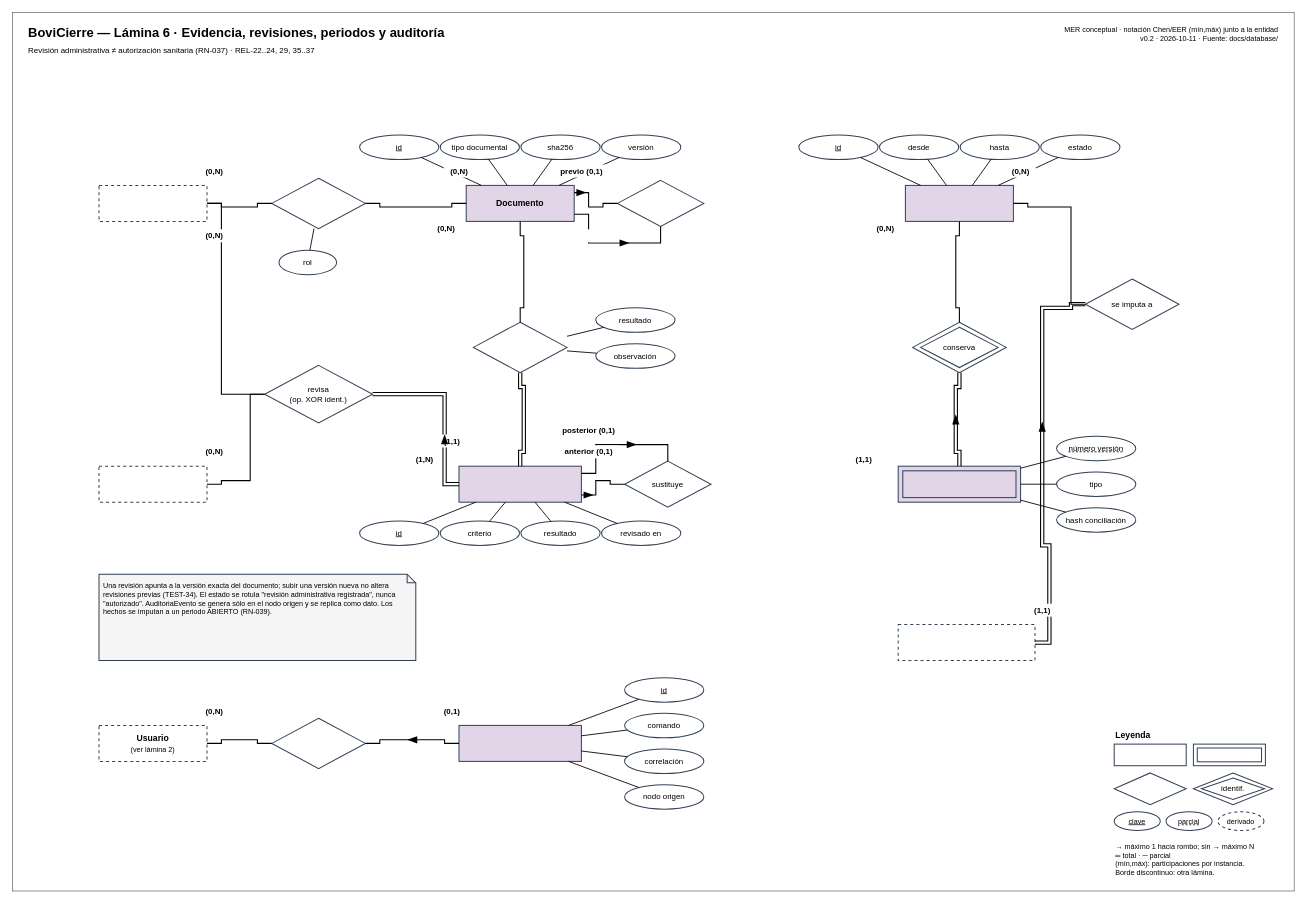
The diagram is 1307 pixels wide and 904 high, and some of its shapes have lost their labels. The shapes that lost their labels are listed below. From the top down, each one's centre as x and y in pixels, then its label:
(x=152, y=203): Operacion (ver lámina 3)
(x=318, y=203): incorpora
(x=660, y=203): reemplaza
(x=959, y=203): PeriodoCierre
(x=581, y=235): nueva versión (0,1)
(x=520, y=347): examina
(x=152, y=483): Identificacion (ver lámina 2)
(x=520, y=483): RevisionAdministrativa
(x=959, y=483): CierrePeriodoVersion
(x=966, y=642): AsientoValoracion / Ajuste (ver lámina 5)
(x=318, y=743): origina
(x=520, y=743): AuditoriaEvento
(x=1149, y=754): Entidad fuerte
(x=1229, y=754): Entidad débil
(x=1149, y=788): relación
